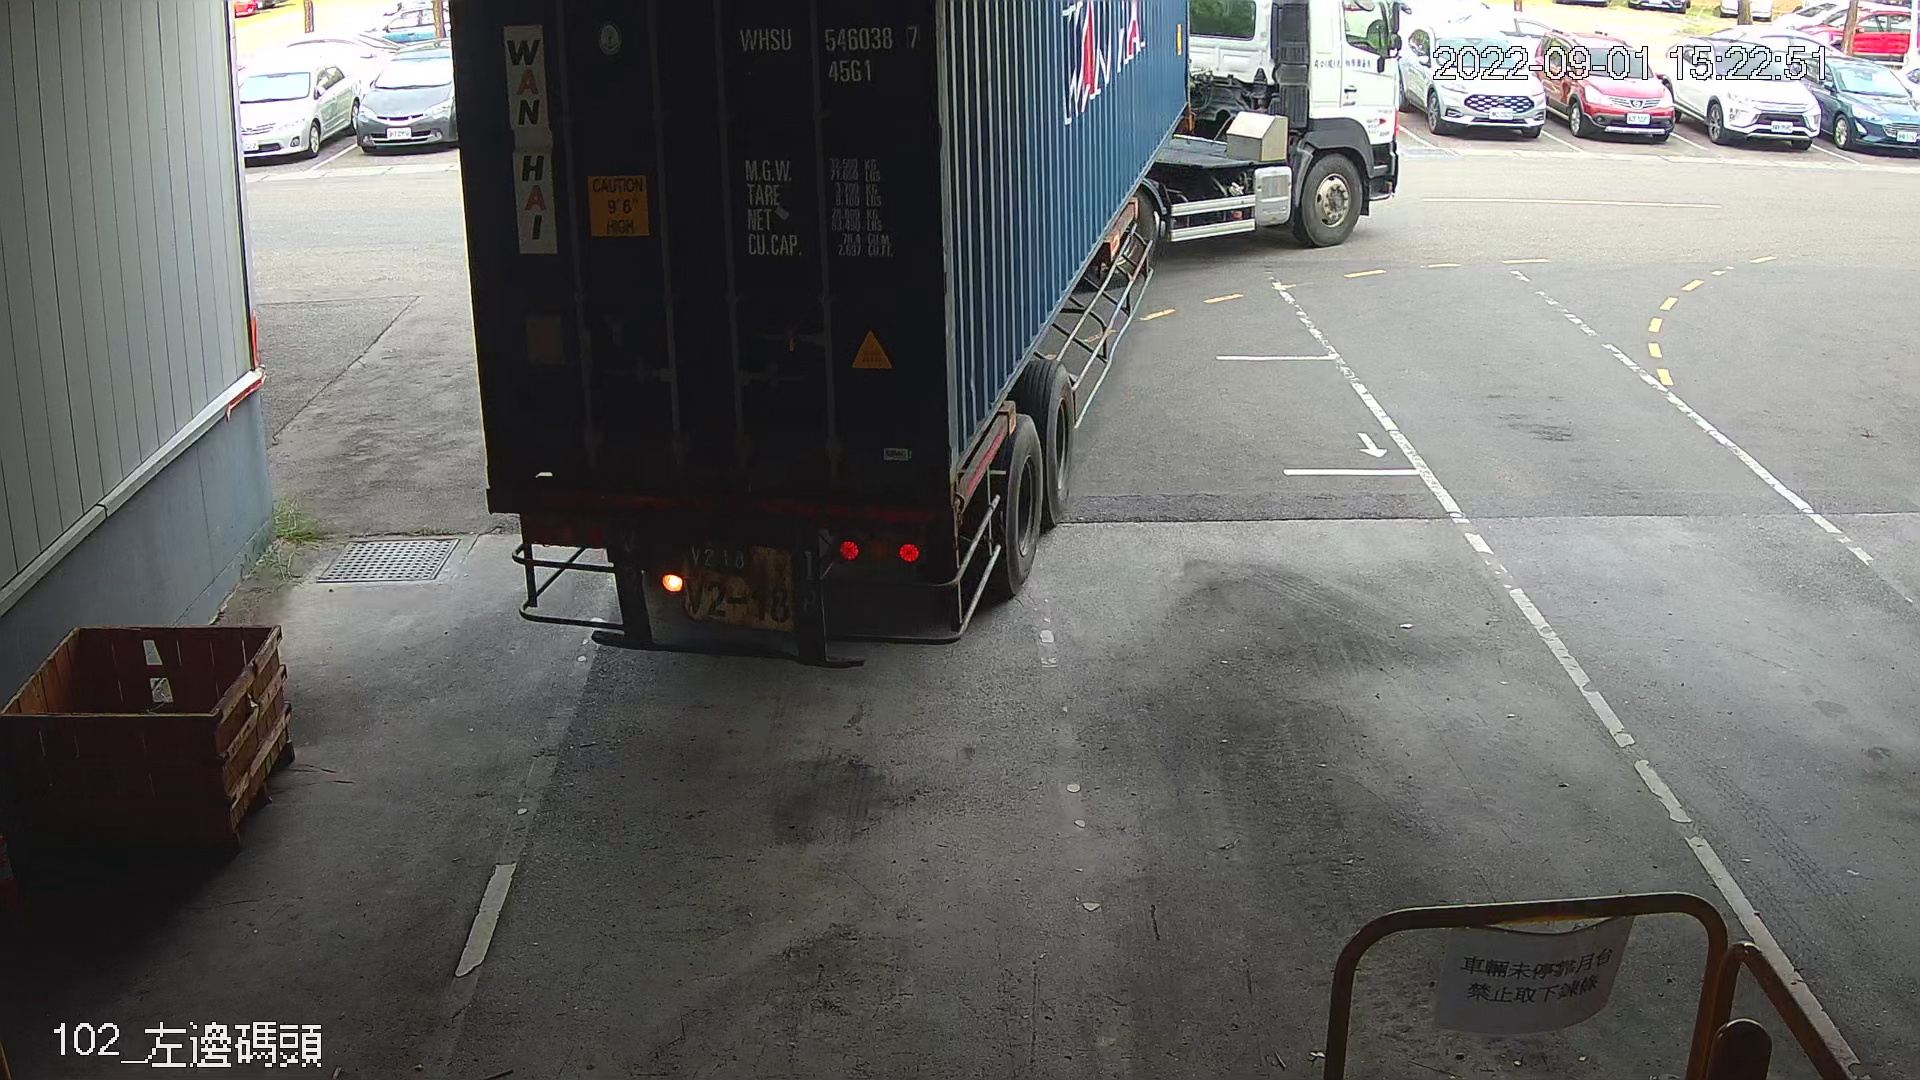container: (735, 13, 928, 86)
